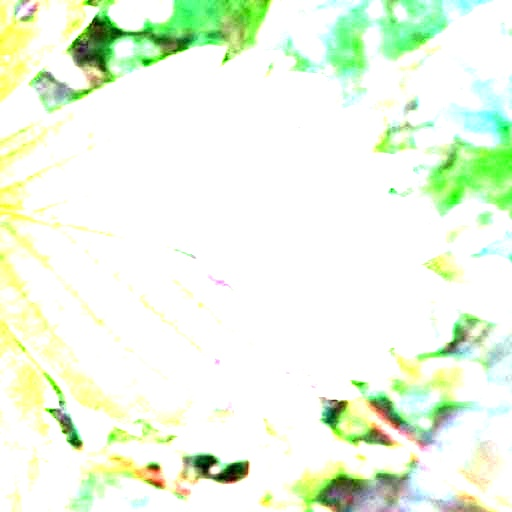Leaf Spot: (0, 46, 456, 445)
